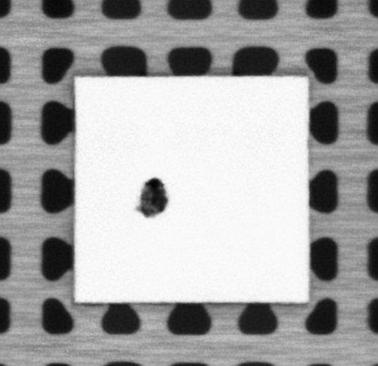DIE_INK: (135, 174, 168, 220)
